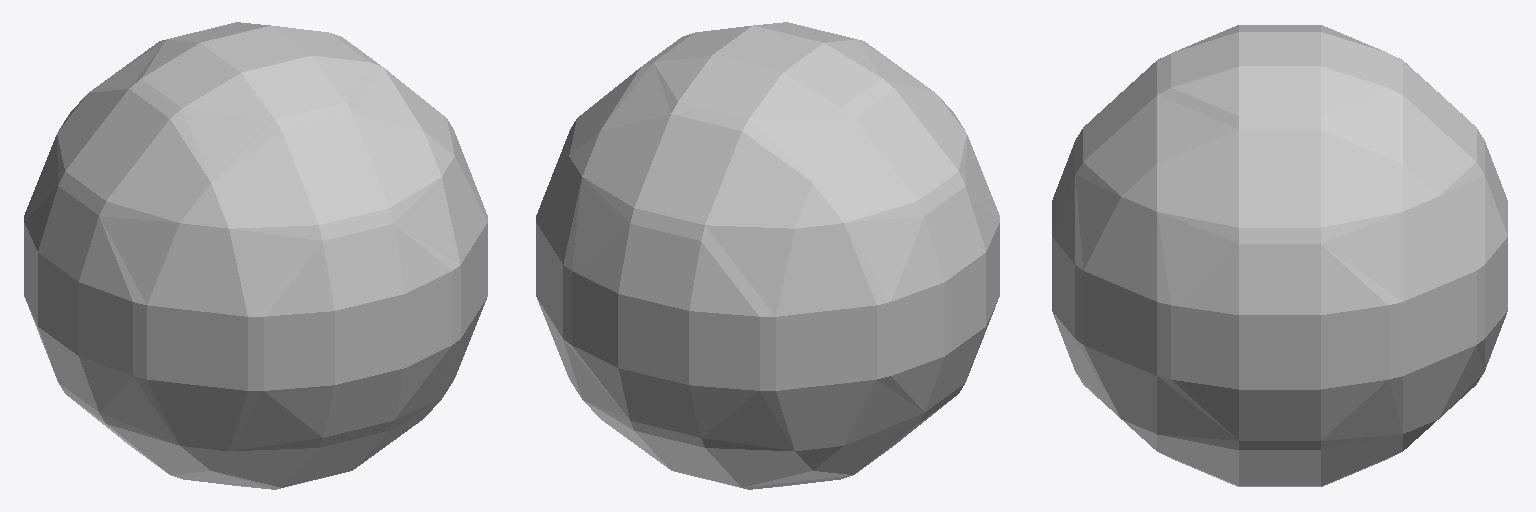
Rendered from ball.obj.
The picture shows the model from 3 angles: view 1: azimuth 30°, elevation 25°; view 2: azimuth 150°, elevation 25°; view 3: azimuth 270°, elevation 25°; orthographic projection.
Visible parts, largest first — view 1: Mball; view 2: Mball; view 3: Mball.
Part boxes in pixels (bbox=[...]): Mball: bbox=[24, 22, 487, 489]; Mball: bbox=[536, 22, 999, 489]; Mball: bbox=[1052, 25, 1507, 486].
Bounding box in the file's own units: 2.23 × 2.23 × 2.23.